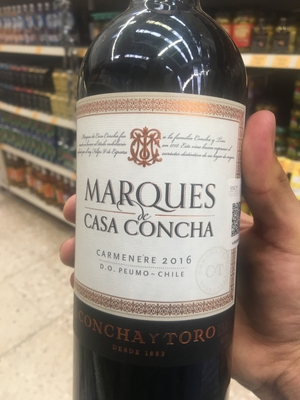marques de casa concha carmenere: (59, 18, 262, 400)
